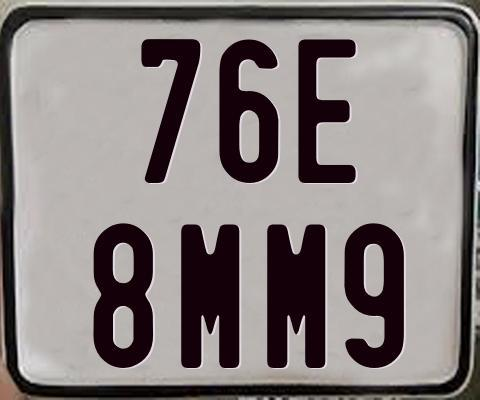6: (216, 37, 278, 186)
7: (141, 37, 203, 181)
8: (93, 223, 153, 369)
9: (343, 223, 409, 371)
E: (295, 36, 359, 180)
M: (178, 221, 240, 371), (267, 221, 329, 366)
